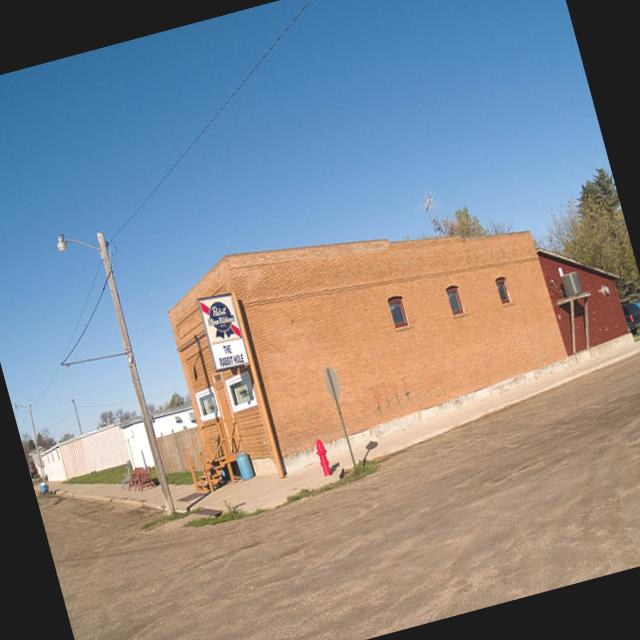Vehicle: (620, 296, 640, 336)
